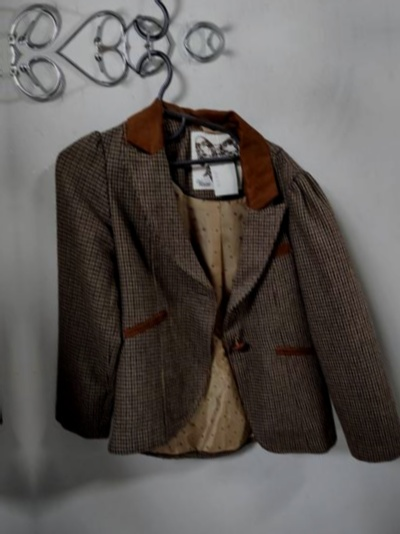Blazer: (26, 94, 400, 500), (0, 120, 16, 526)
